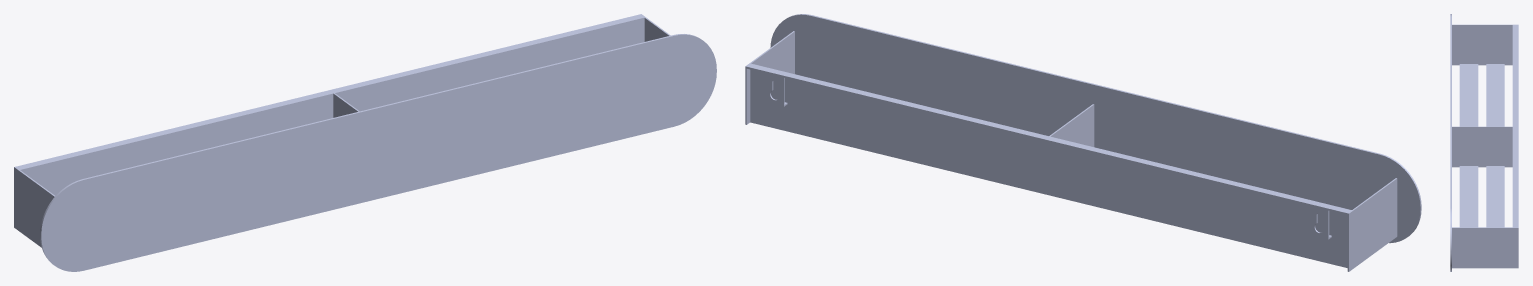
File: round-mono.193b078bf1.glb
3 renders of one model, left to right at view 1: azimuth 30°, elevation 25°; view 2: azimuth 150°, elevation 25°; view 3: azimuth 270°, elevation 25°, orthographic. The views are drawn at different scales.
Parts seen in each view (by area): view 1: NAUO1; view 2: NAUO1; view 3: NAUO1.
Boxes of the visible parts, x1=… form: NAUO1: x1=14, y1=14, x2=716, y2=271; NAUO1: x1=745, y1=14, x2=1421, y2=271; NAUO1: x1=1450, y1=14, x2=1518, y2=271.
Bounding box in the file's own units: 0.7 × 0.09 × 0.092.
